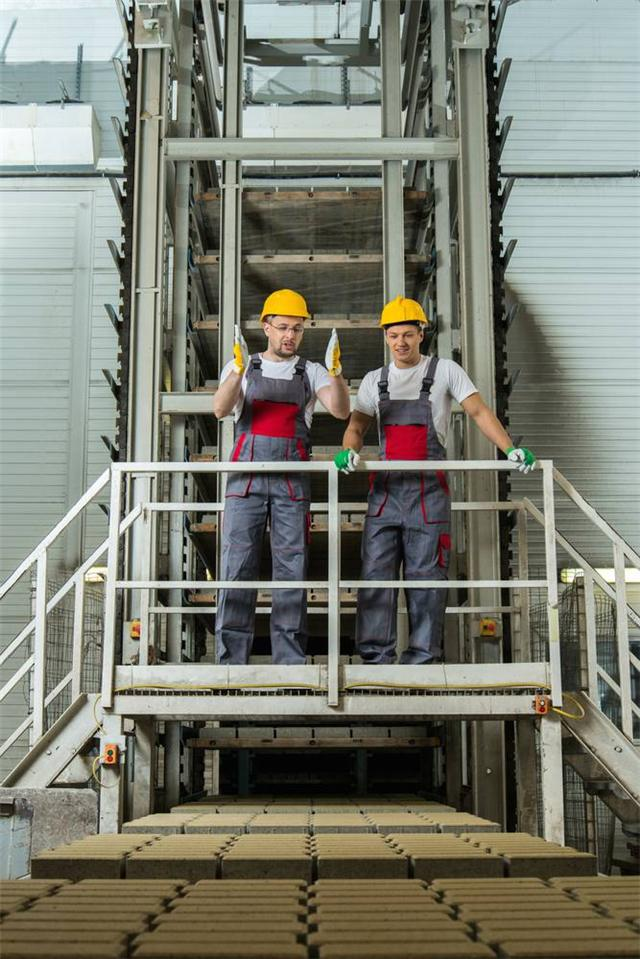helmet: (373, 280, 436, 378), (253, 276, 315, 360)
